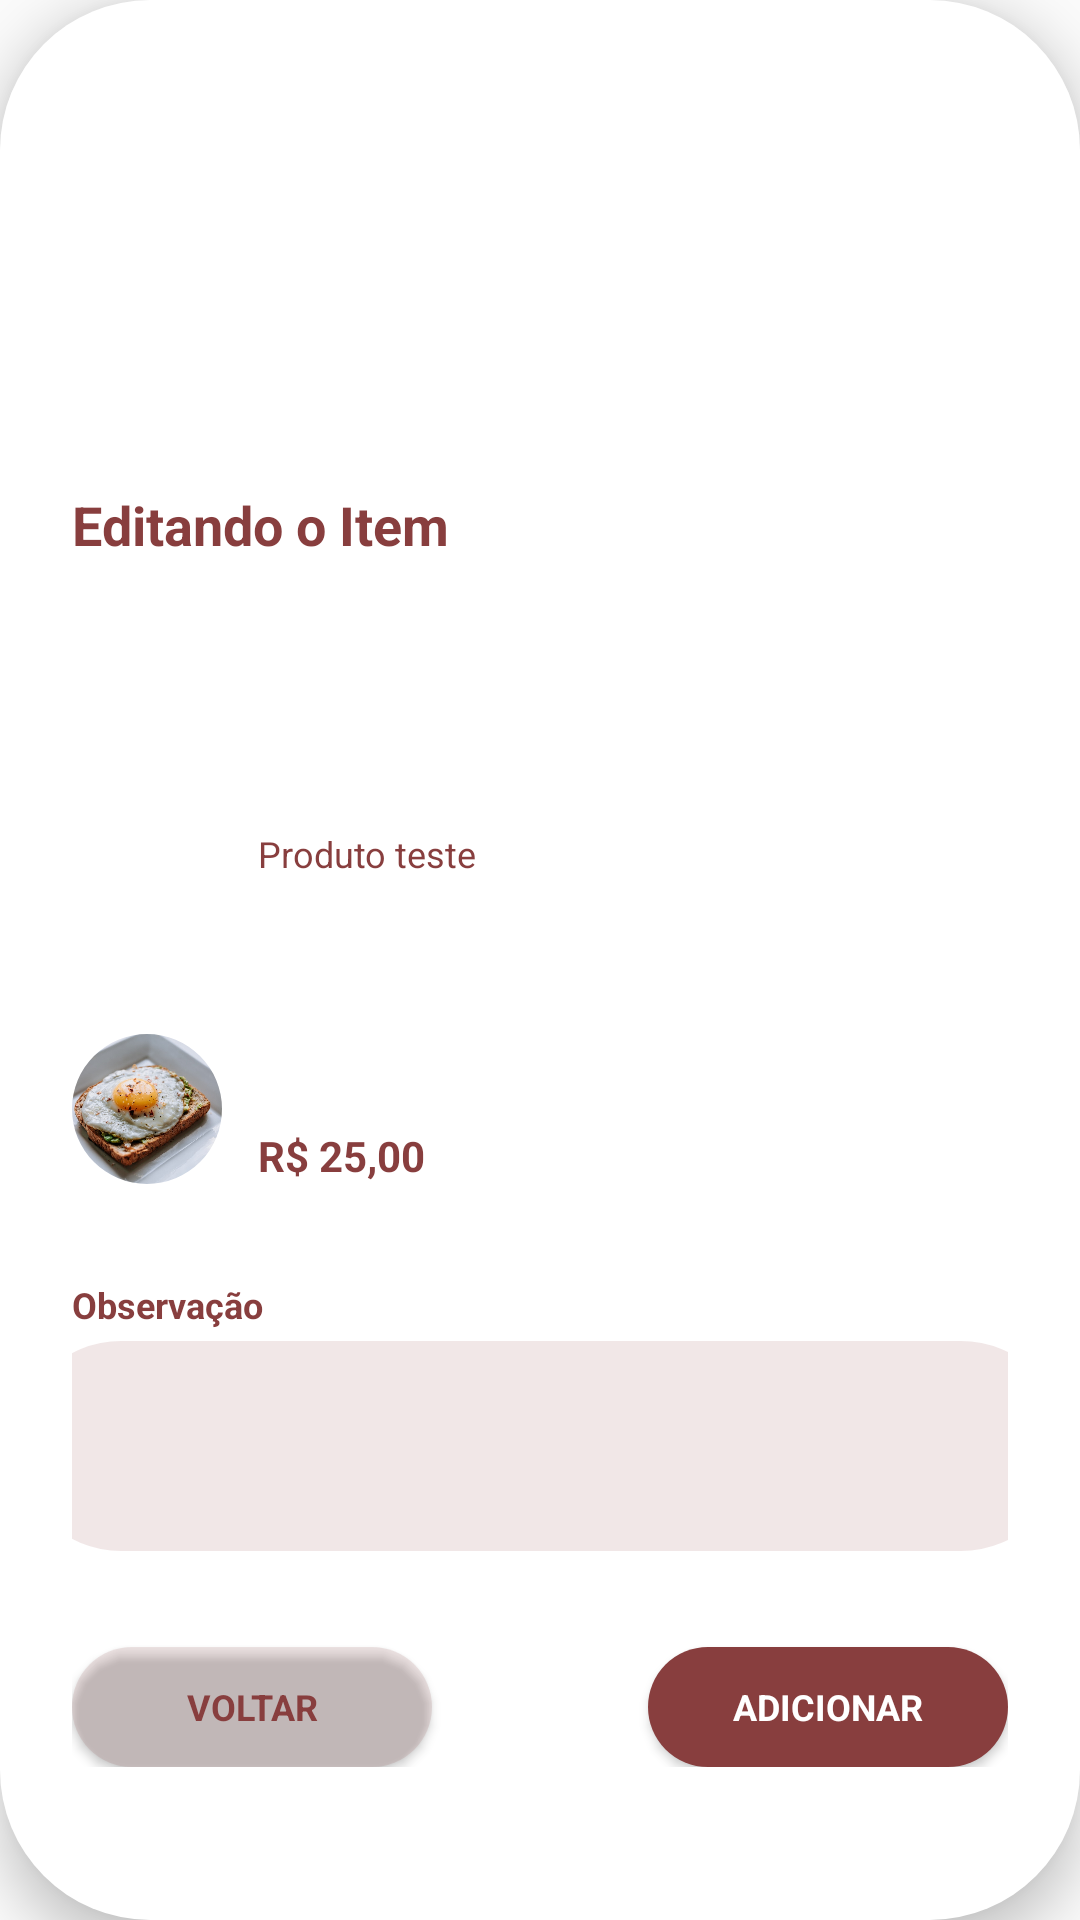

Where icons sit on this 1080×1920 app screen, as bbox=(x1, y1, x2, y2):
ovo: bbox=(72, 1034, 222, 1184)
